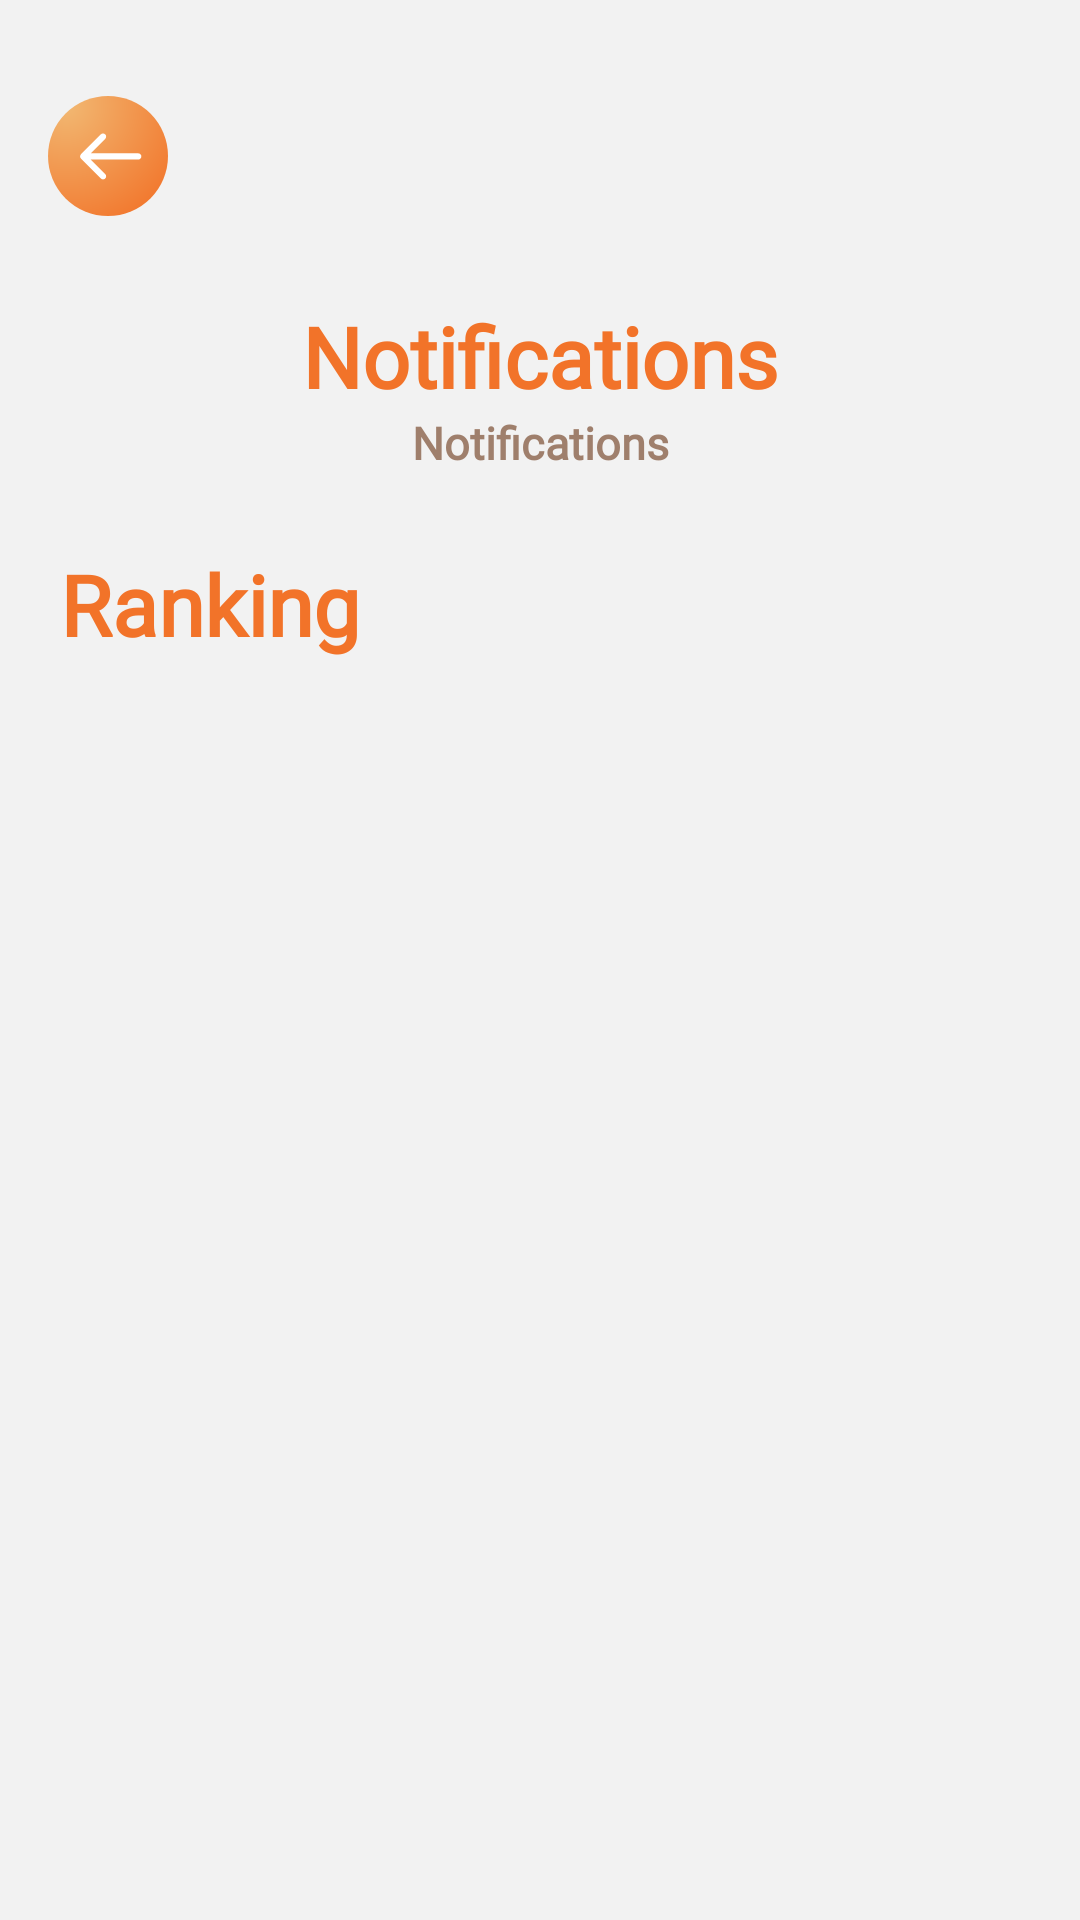

Screen size 1080×1920. Icon name, then its box in pixels as (x1, y1, x2, y2):
back: (48, 96, 168, 216)
